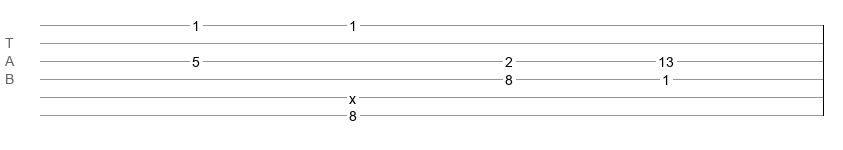1: (192, 18, 200, 28), (349, 18, 357, 28), (662, 72, 670, 82)
13: (658, 54, 674, 64)
2: (505, 54, 513, 64)
5: (192, 54, 200, 64)
8: (349, 108, 357, 118), (505, 72, 513, 82)
x: (349, 91, 356, 99)
